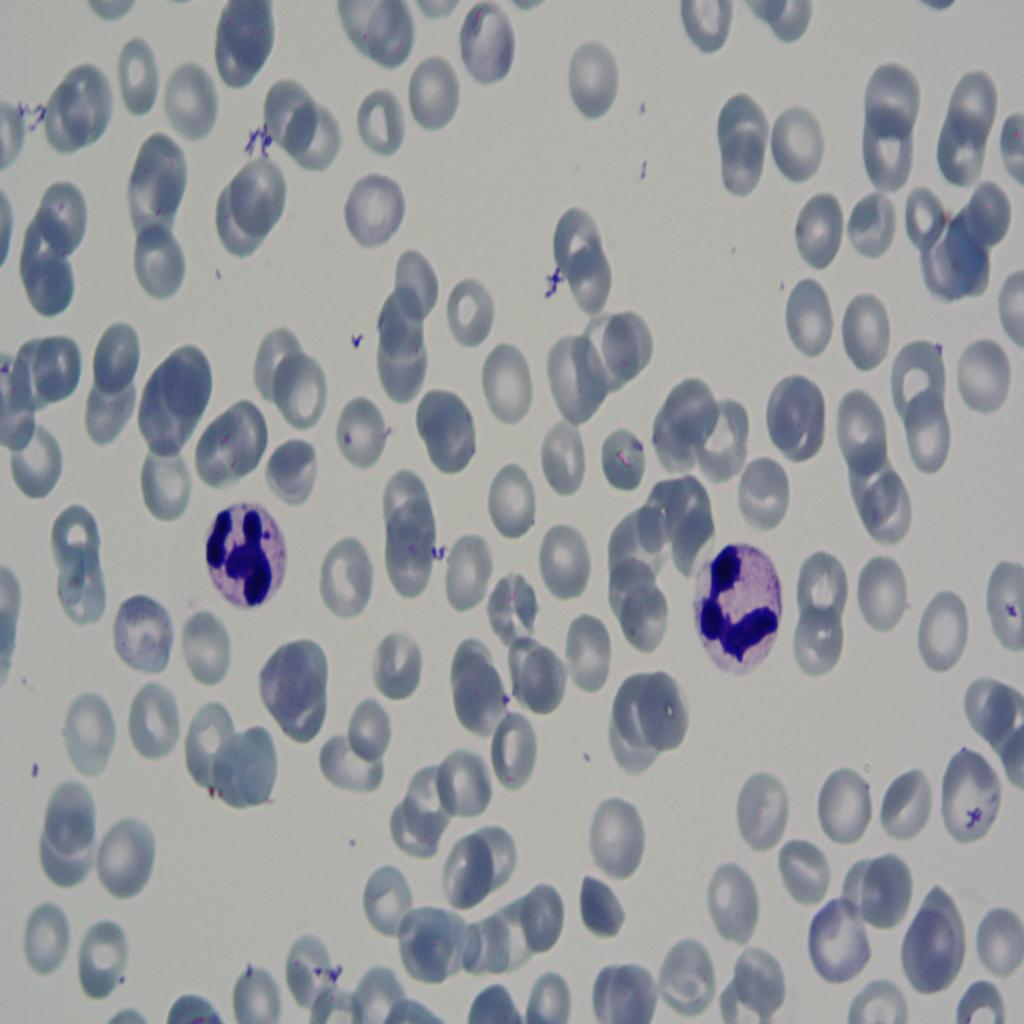Neutrofil: (687, 535, 795, 684), (197, 493, 290, 616)
